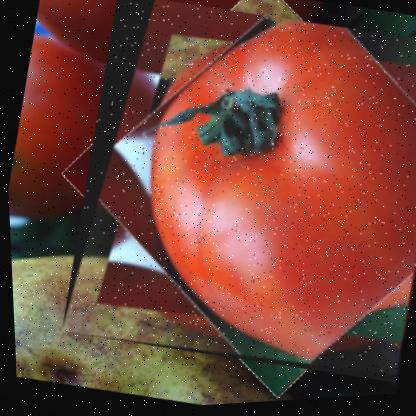tomato: (46, 0, 415, 402)
